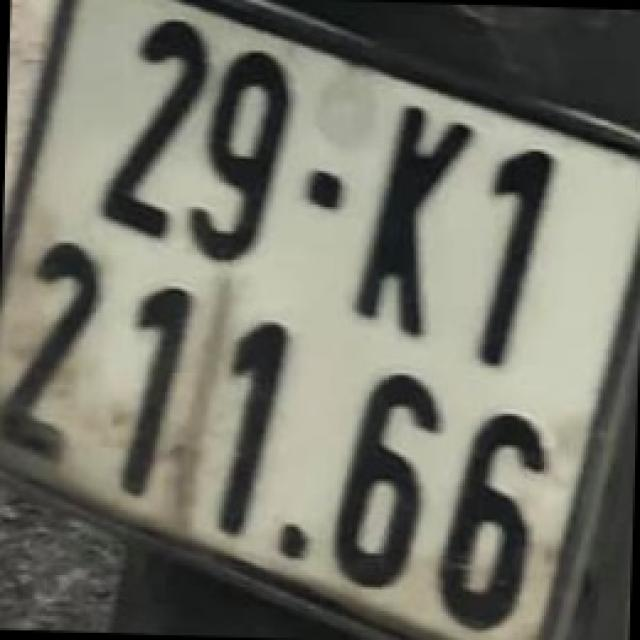1: (472, 127, 558, 370), (212, 313, 293, 539)
2: (98, 14, 202, 243), (2, 238, 101, 469)
6: (433, 404, 549, 633), (330, 370, 438, 594)
7: (113, 277, 197, 505)
9: (189, 46, 293, 264)
K: (350, 96, 470, 342)
